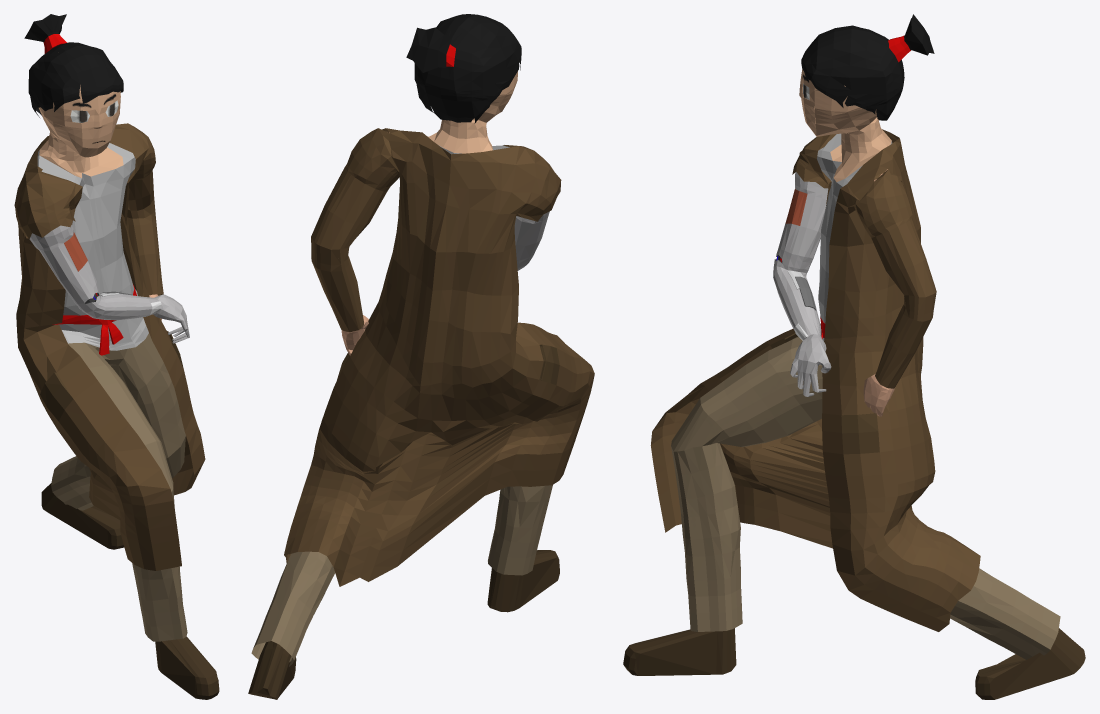
The model's file is One_RL_000000.obj.
3 renders of one model, left to right at view 1: azimuth 30°, elevation 25°; view 2: azimuth 150°, elevation 25°; view 3: azimuth 270°, elevation 25°, orthographic. The views are drawn at different scales.
Visible parts, largest first — view 1: Hair_Cube.004; view 2: Hair_Cube.004; view 3: Hair_Cube.004.
Part boxes in pixels (x1,y1,x2,y2): Hair_Cube.004: (14, 14, 219, 699); Hair_Cube.004: (248, 14, 594, 699); Hair_Cube.004: (623, 14, 1085, 699).
Size of the model in its own units: 1.21 by 3.47 by 2.28.
